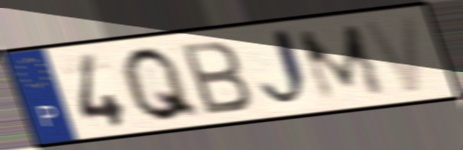4: (76, 50, 128, 130)
B: (176, 37, 256, 118)
J: (257, 24, 316, 113)
M: (293, 21, 391, 105)
Q: (118, 43, 206, 125)
V: (359, 12, 427, 96)
